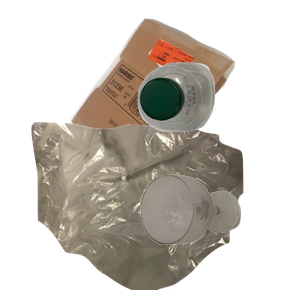cardboard: (67, 16, 295, 196)
glass: (138, 172, 300, 300)
plastic: (135, 60, 300, 184)
trash: (29, 120, 265, 300)
